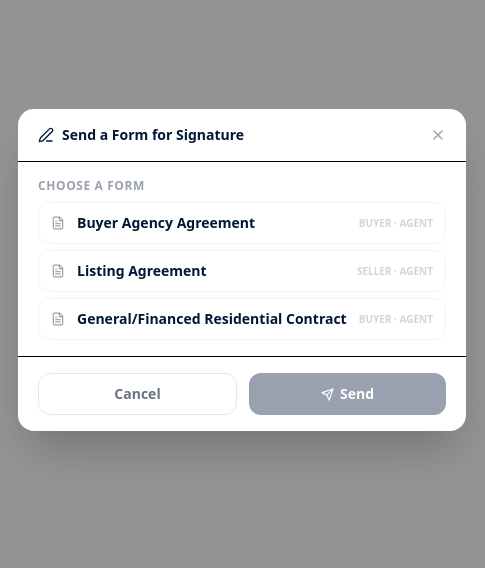
Test case: SendTemplateModal › a form without a fieldMap skips straight to signers
Step 1. Click the text "Buyer Agency Agreement" → (166, 222), box [77, 213, 255, 232]
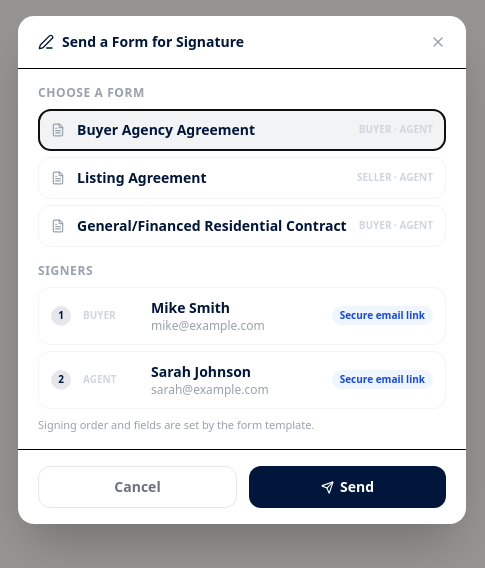
Check: the text "Mike Smith" is shown, box [151, 298, 230, 317]
